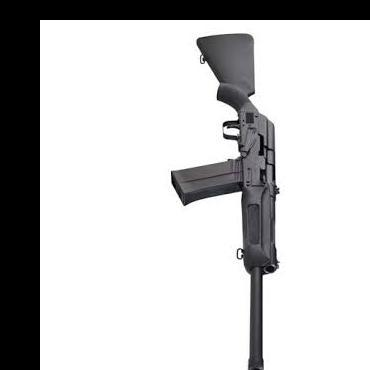larga: (171, 32, 282, 370)
